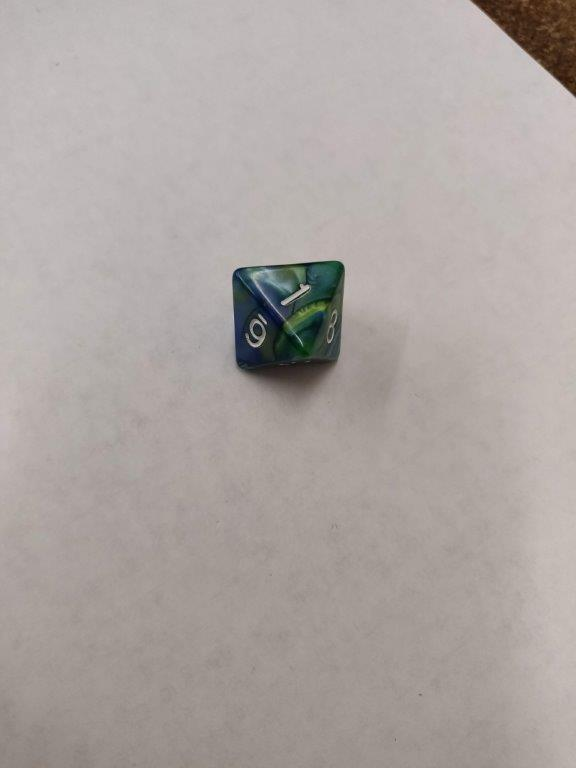d8-1: (233, 259, 346, 370)
